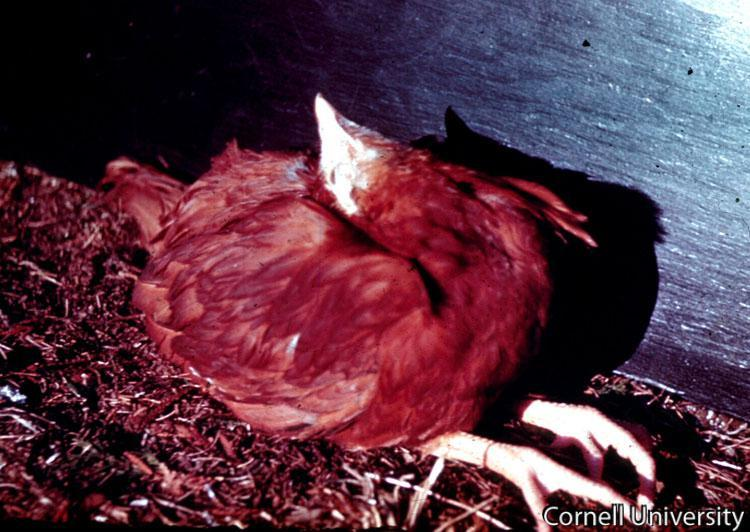AbNormal: (104, 94, 664, 532)
